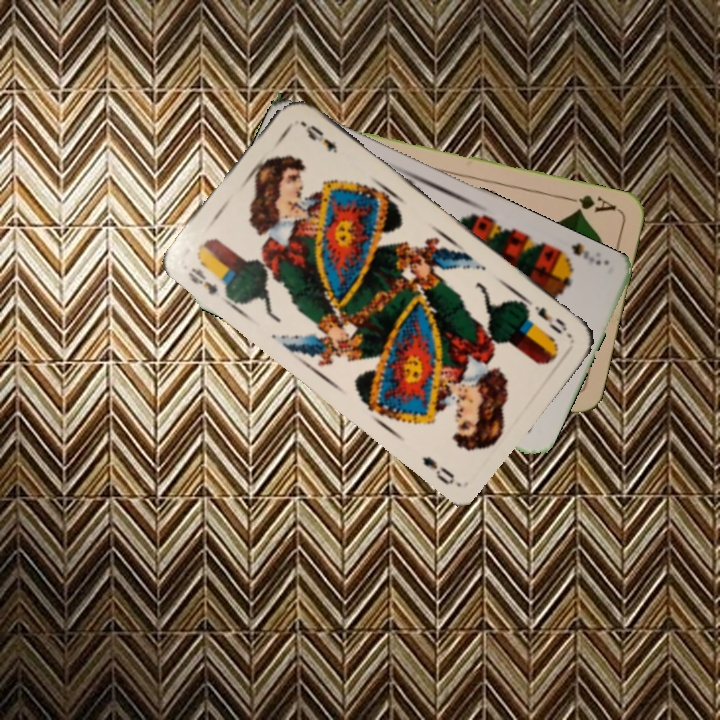EO: (530, 301, 570, 337), (183, 263, 221, 298)
GA: (561, 191, 618, 216)
S9: (551, 240, 604, 269)
